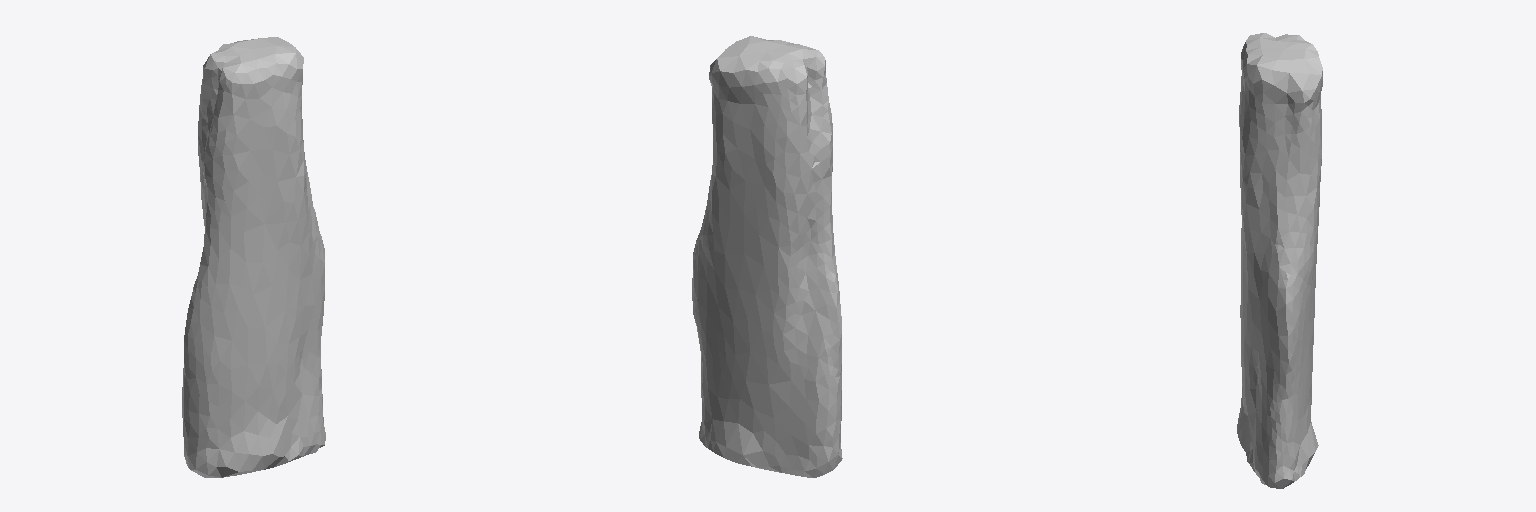
File: RockPillars_4.obj
3 views of the same model, side by side, from view 1: azimuth 30°, elevation 25°; view 2: azimuth 150°, elevation 25°; view 3: azimuth 270°, elevation 25° (orthographic).
Parts seen in each view (by area): view 1: RockPillar04; view 2: RockPillar04; view 3: RockPillar04.
Boxes of the visible parts, x1,y1,x2,y2 form: RockPillar04: [182, 37, 325, 477]; RockPillar04: [692, 36, 842, 477]; RockPillar04: [1237, 33, 1322, 488].
Size of the model in its own units: 15.45 by 42.23 by 8.04.